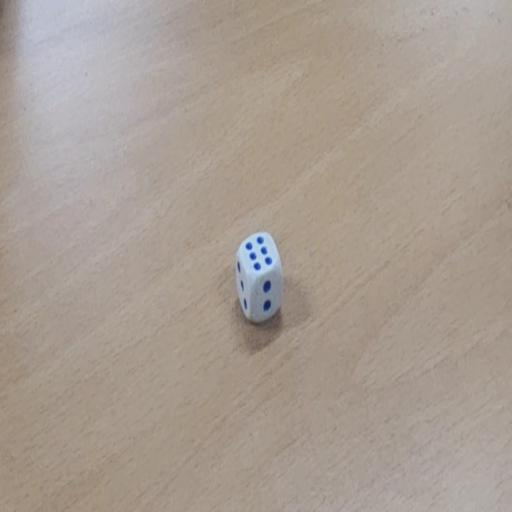dice_6: (234, 232, 284, 326)
